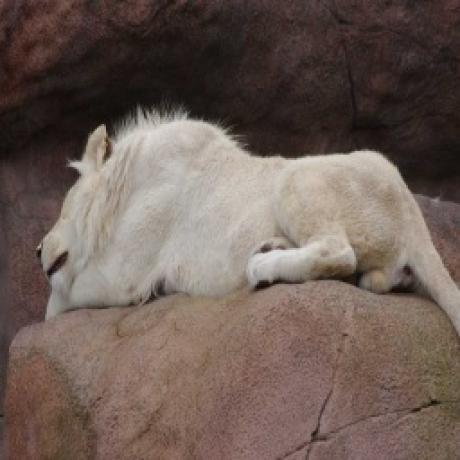Lion: (30, 102, 460, 326)
